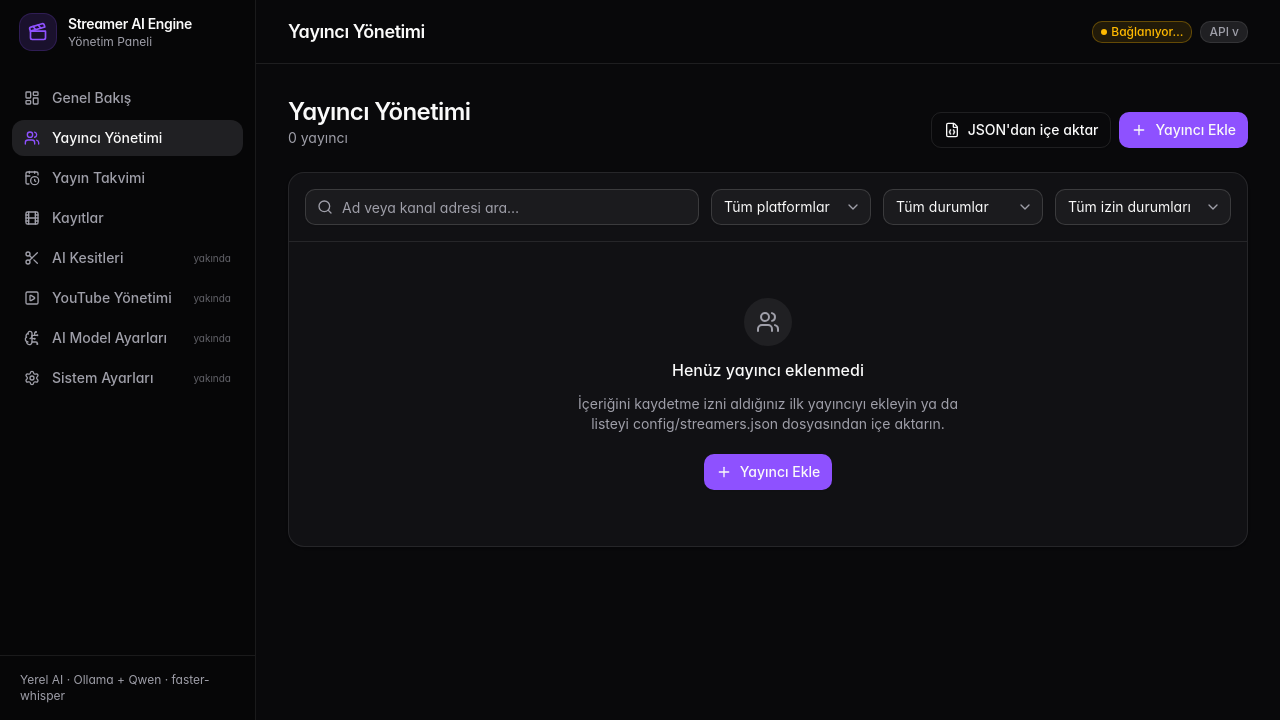
Scenario: Streamer form live capture toggle › is disabled until permission is confirmed and shows the terms warning
Click the button "Yayıncı Ekle" in the row of "0 yayıncı" at [1184, 130], box [1120,112,1248,148]
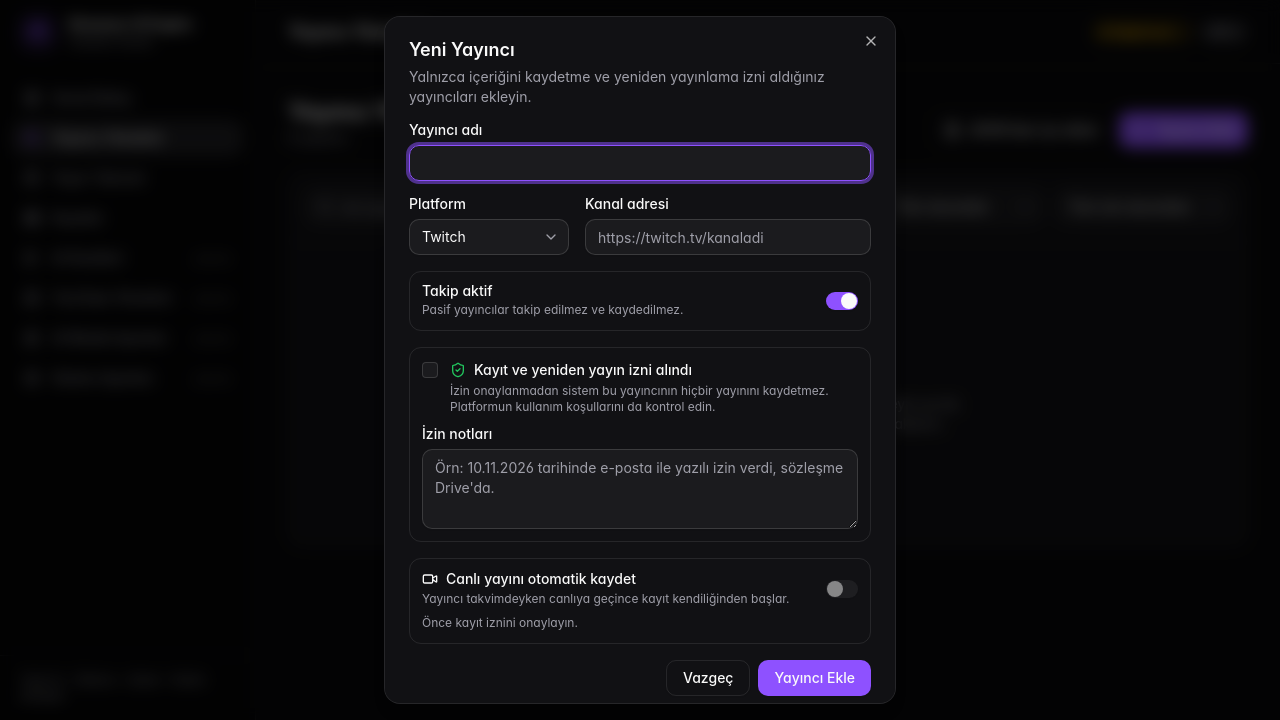
Check: the switch named "Canlı yayını otomatik kaydet" in the row of "Canlı yayını otomatik kaydet" is disabled, box [826,580,858,598]
Click the checkbox named "Kayıt ve yeniden yayın izni alındı" at [430, 370], box [422,362,438,378]
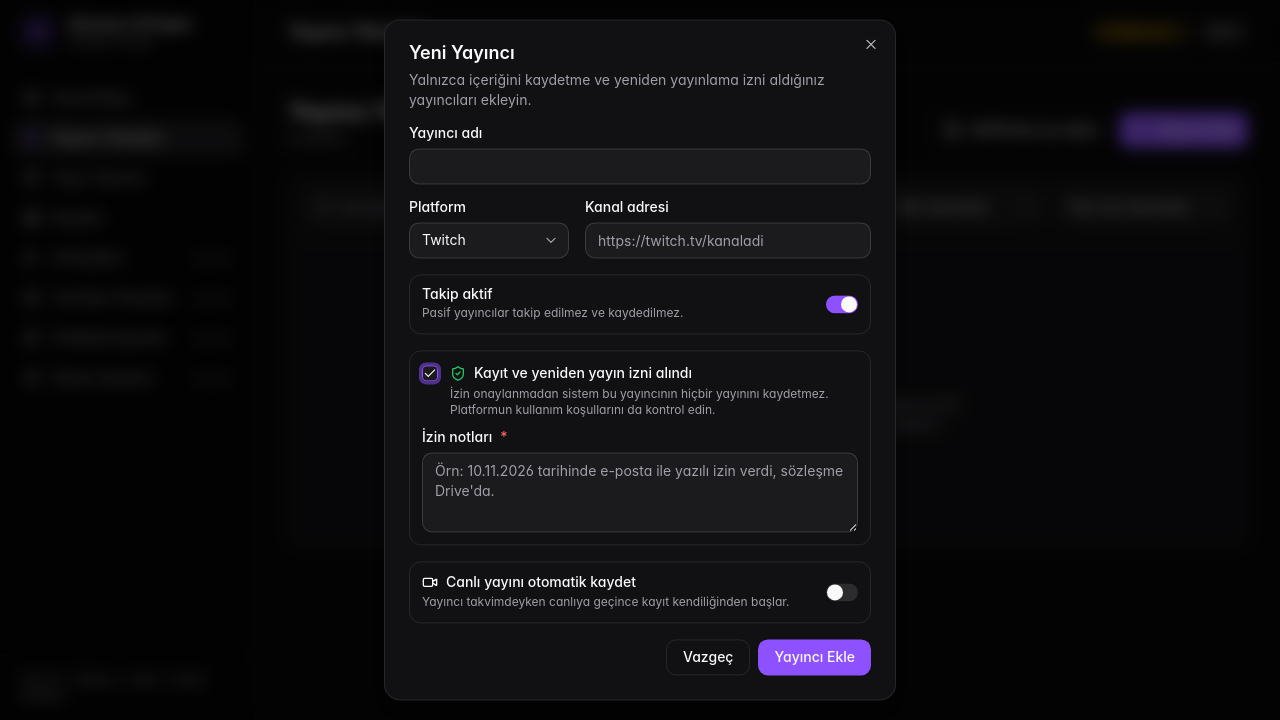
Check: the switch named "Canlı yayını otomatik kaydet" in the row of "Canlı yayını otomatik kaydet" is enabled
Click the switch named "Canlı yayını otomatik kaydet" in the row of "Canlı yayını otomatik kaydet" at [842, 593], box [826,583,858,602]
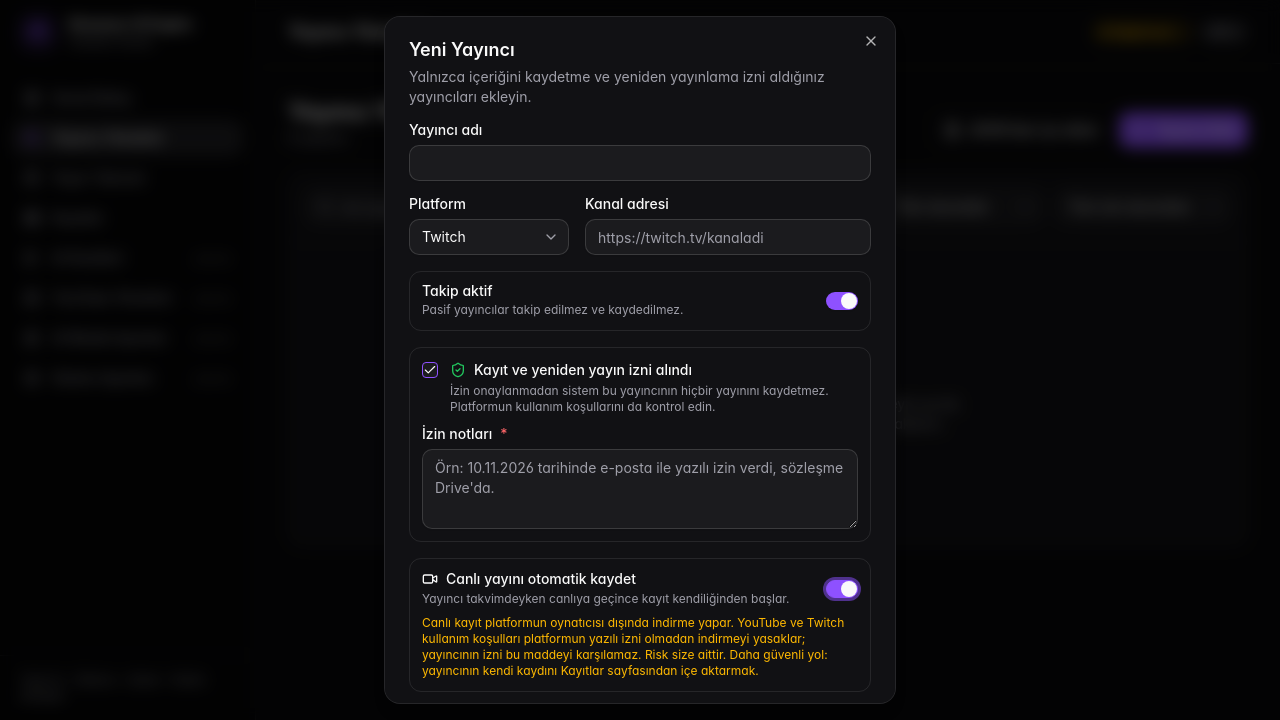
Check: the text "kullanım koşulları" is shown, box [422,615,844,678]
Click the checkbox named "Kayıt ve yeniden yayın izni alındı" at [430, 370], box [422,362,438,378]
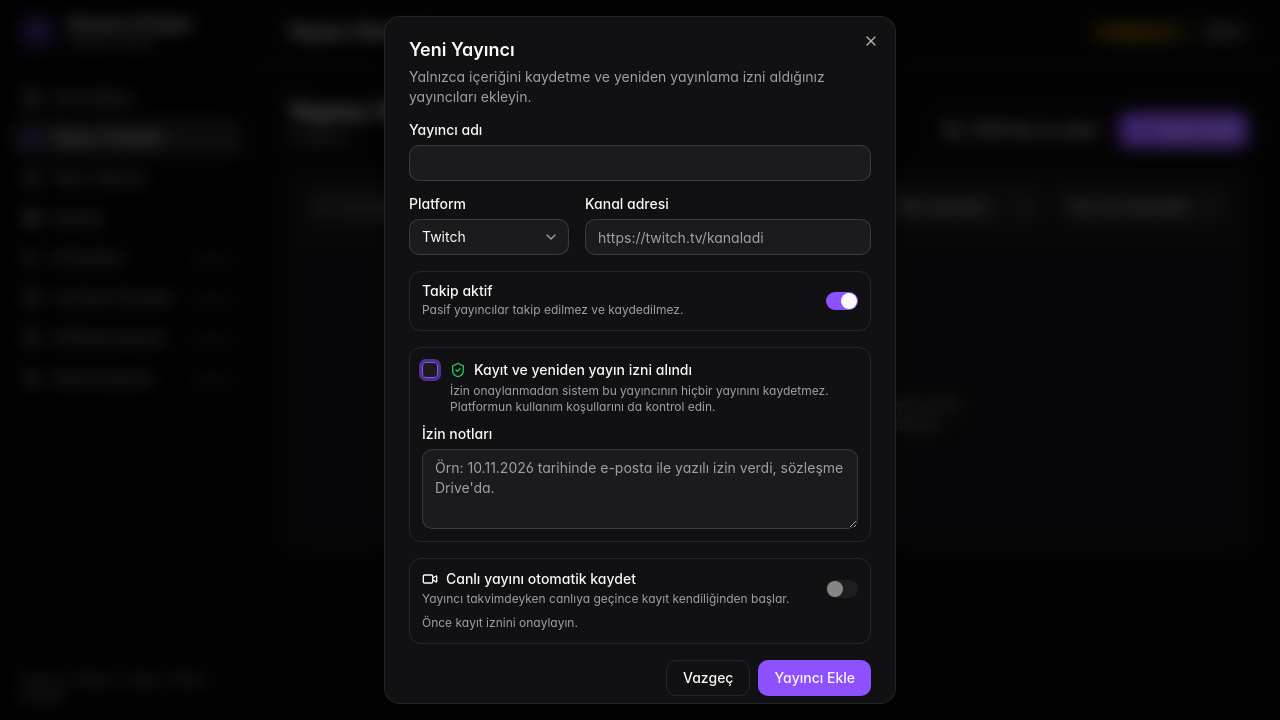
Check: the switch named "Canlı yayını otomatik kaydet" in the row of "Canlı yayını otomatik kaydet" is disabled, box [826,580,858,598]
